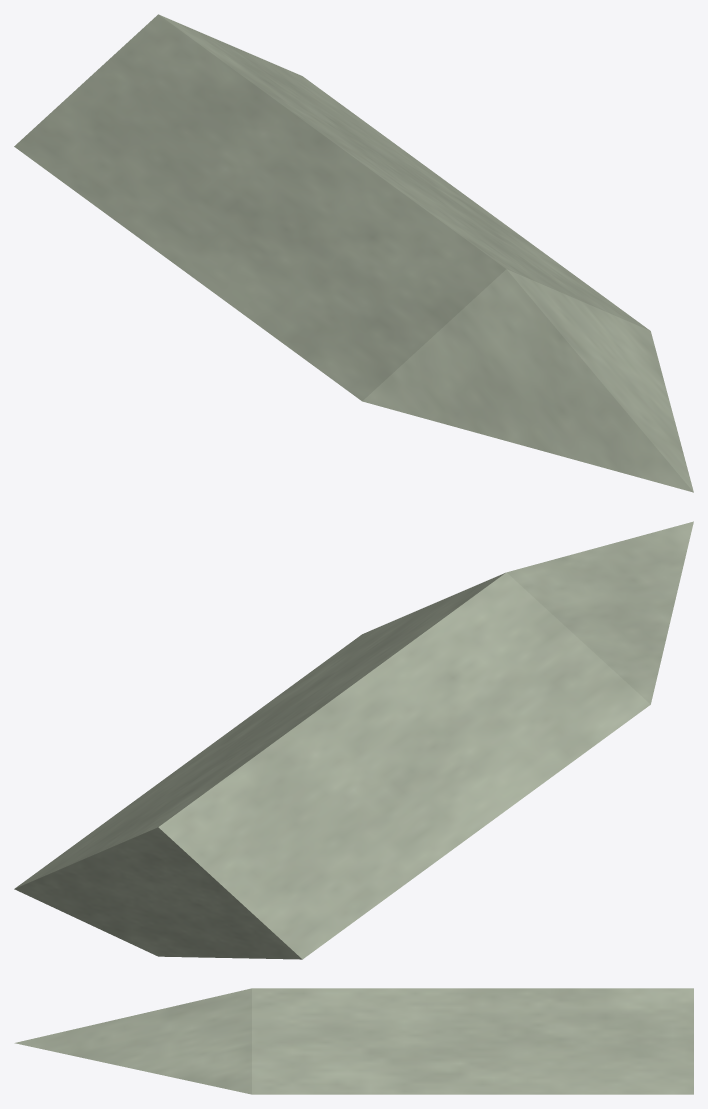
Rendered from item-TemporalShard.fbx.
3 renders of one model, top to bottom at view 1: azimuth 30°, elevation 25°; view 2: azimuth 150°, elevation 25°; view 3: azimuth 270°, elevation 25°, orthographic. The views are drawn at different scales.
Visible parts, largest first — view 1: item-TemporalShard__Geometry; view 2: item-TemporalShard__Geometry; view 3: item-TemporalShard__Geometry.
Part boxes in pixels (x1=…): item-TemporalShard__Geometry: x1=14, y1=14, x2=693, y2=492; item-TemporalShard__Geometry: x1=14, y1=521, x2=693, y2=959; item-TemporalShard__Geometry: x1=14, y1=988, x2=693, y2=1094.
Bounding box in the file's own units: 0.14 × 0.06 × 0.45.
Materials: 1 (1 with a texture image).
